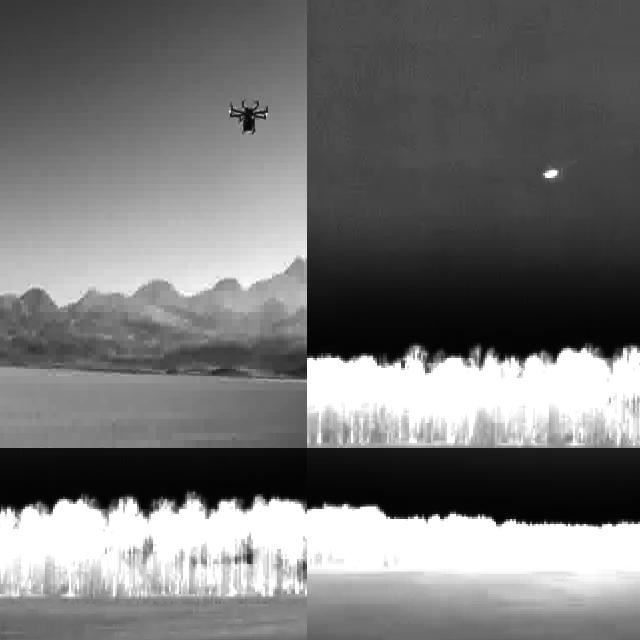1: (536, 162, 572, 192)
drone: (223, 92, 271, 144)
